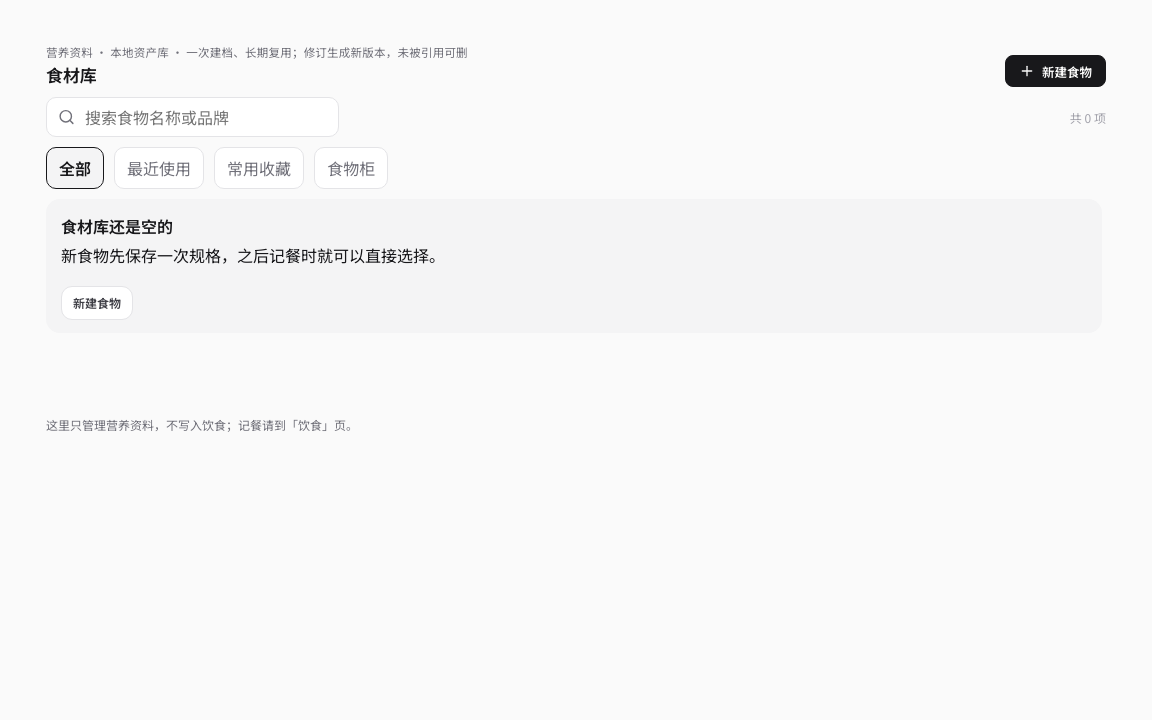
Test case: 食材库页食物柜分组 › opens the entry modal without the React #185 update loop (regression)
The width and height of the screenshot is (1152, 720).
Click the button "食物柜": (351, 168) [314, 147, 388, 189]
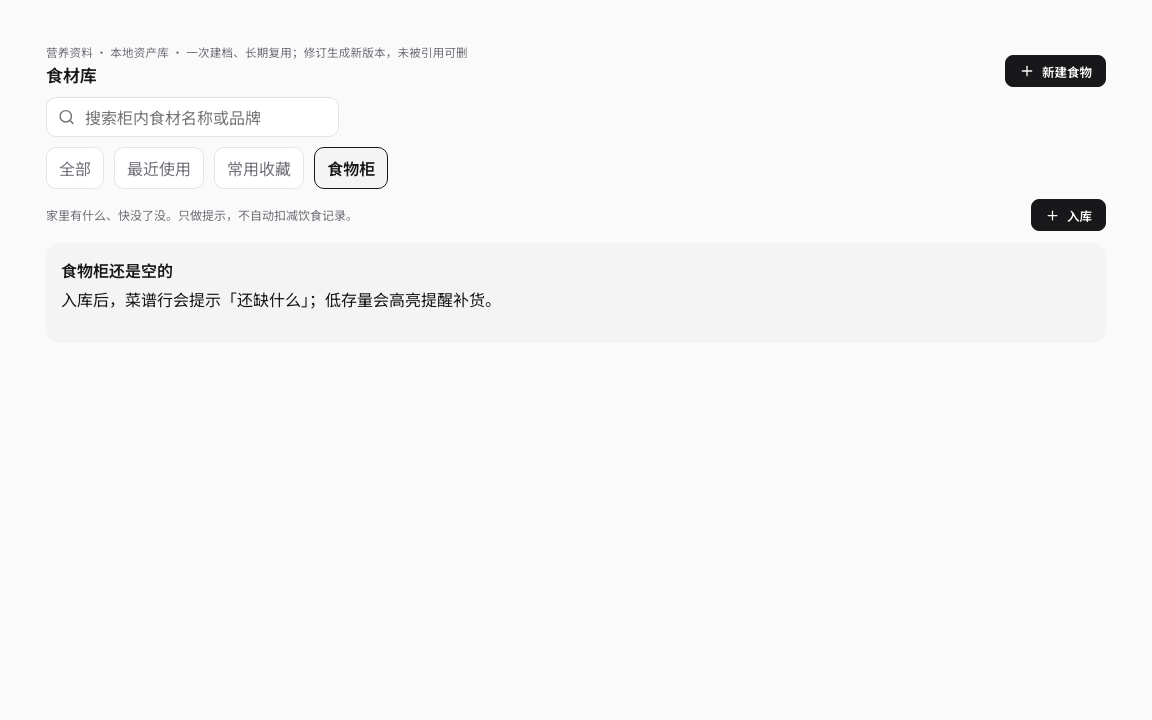
Click the button "入库": (1068, 215) [1031, 199, 1106, 231]
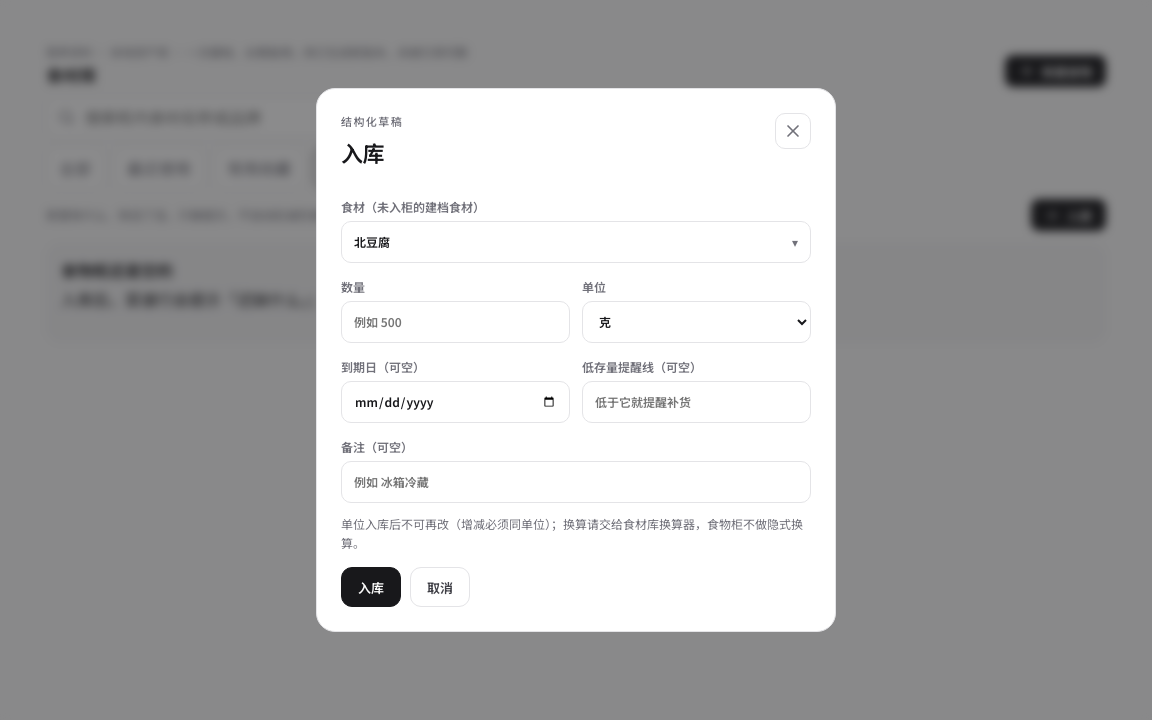
Expected: the dialog with class "modal" shows "入库", [341, 136, 384, 168]
Expected: the button "北豆腐" is shown
Click the button "北豆腐": (372, 242) [341, 221, 811, 263]
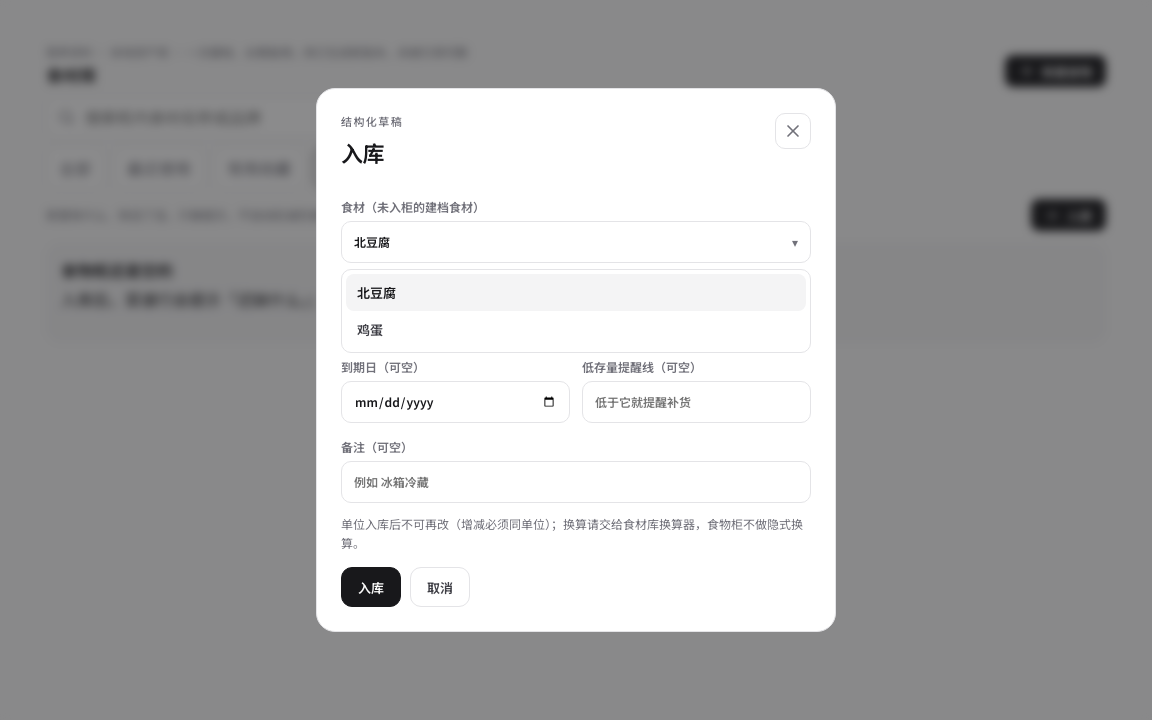
Click the option "北豆腐": (377, 292) [346, 274, 806, 311]
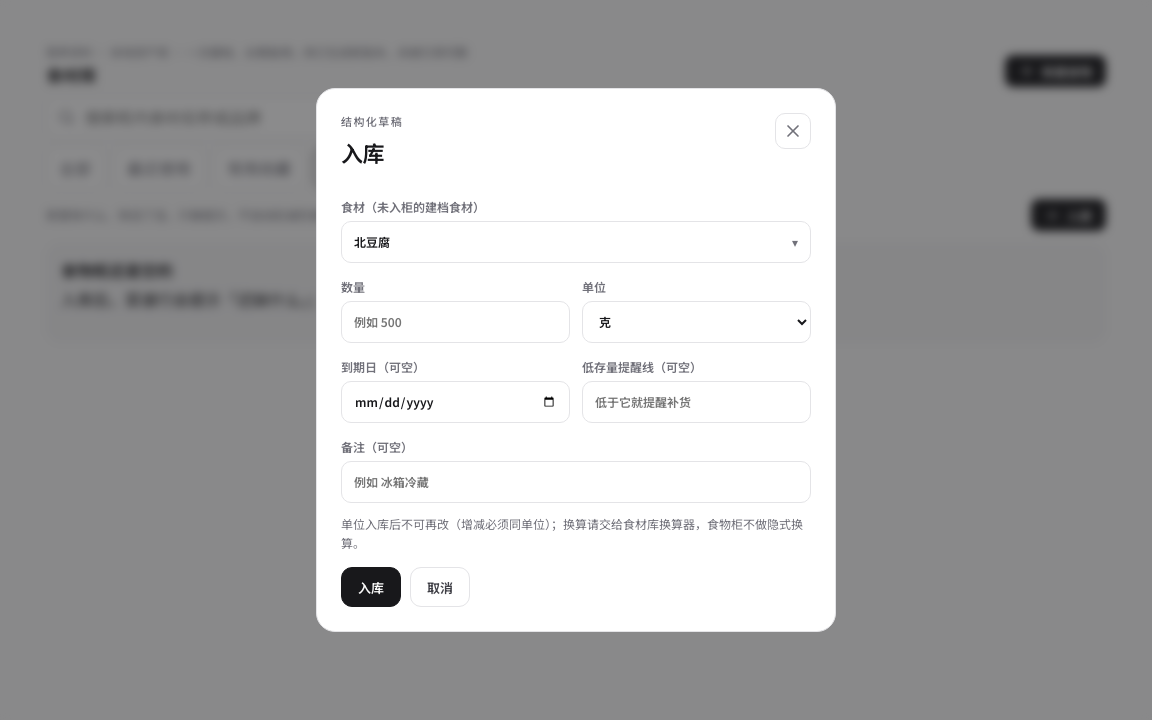
Expected: the button "北豆腐" is shown, [341, 221, 811, 263]
Expected: the list is gone
